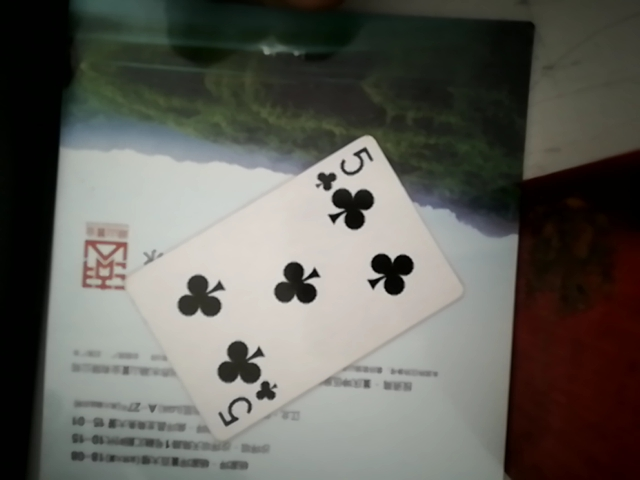mh 5: (92, 132, 458, 426)
